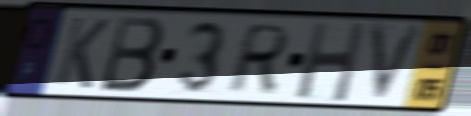3: (176, 19, 231, 95)
B: (97, 13, 167, 95)
H: (293, 19, 369, 105)
K: (52, 14, 112, 92)
R: (223, 22, 295, 96)
V: (367, 20, 430, 108)
